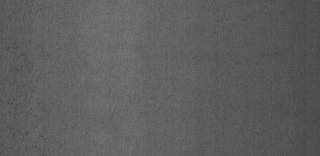silk spot: (5, 24, 61, 134)
